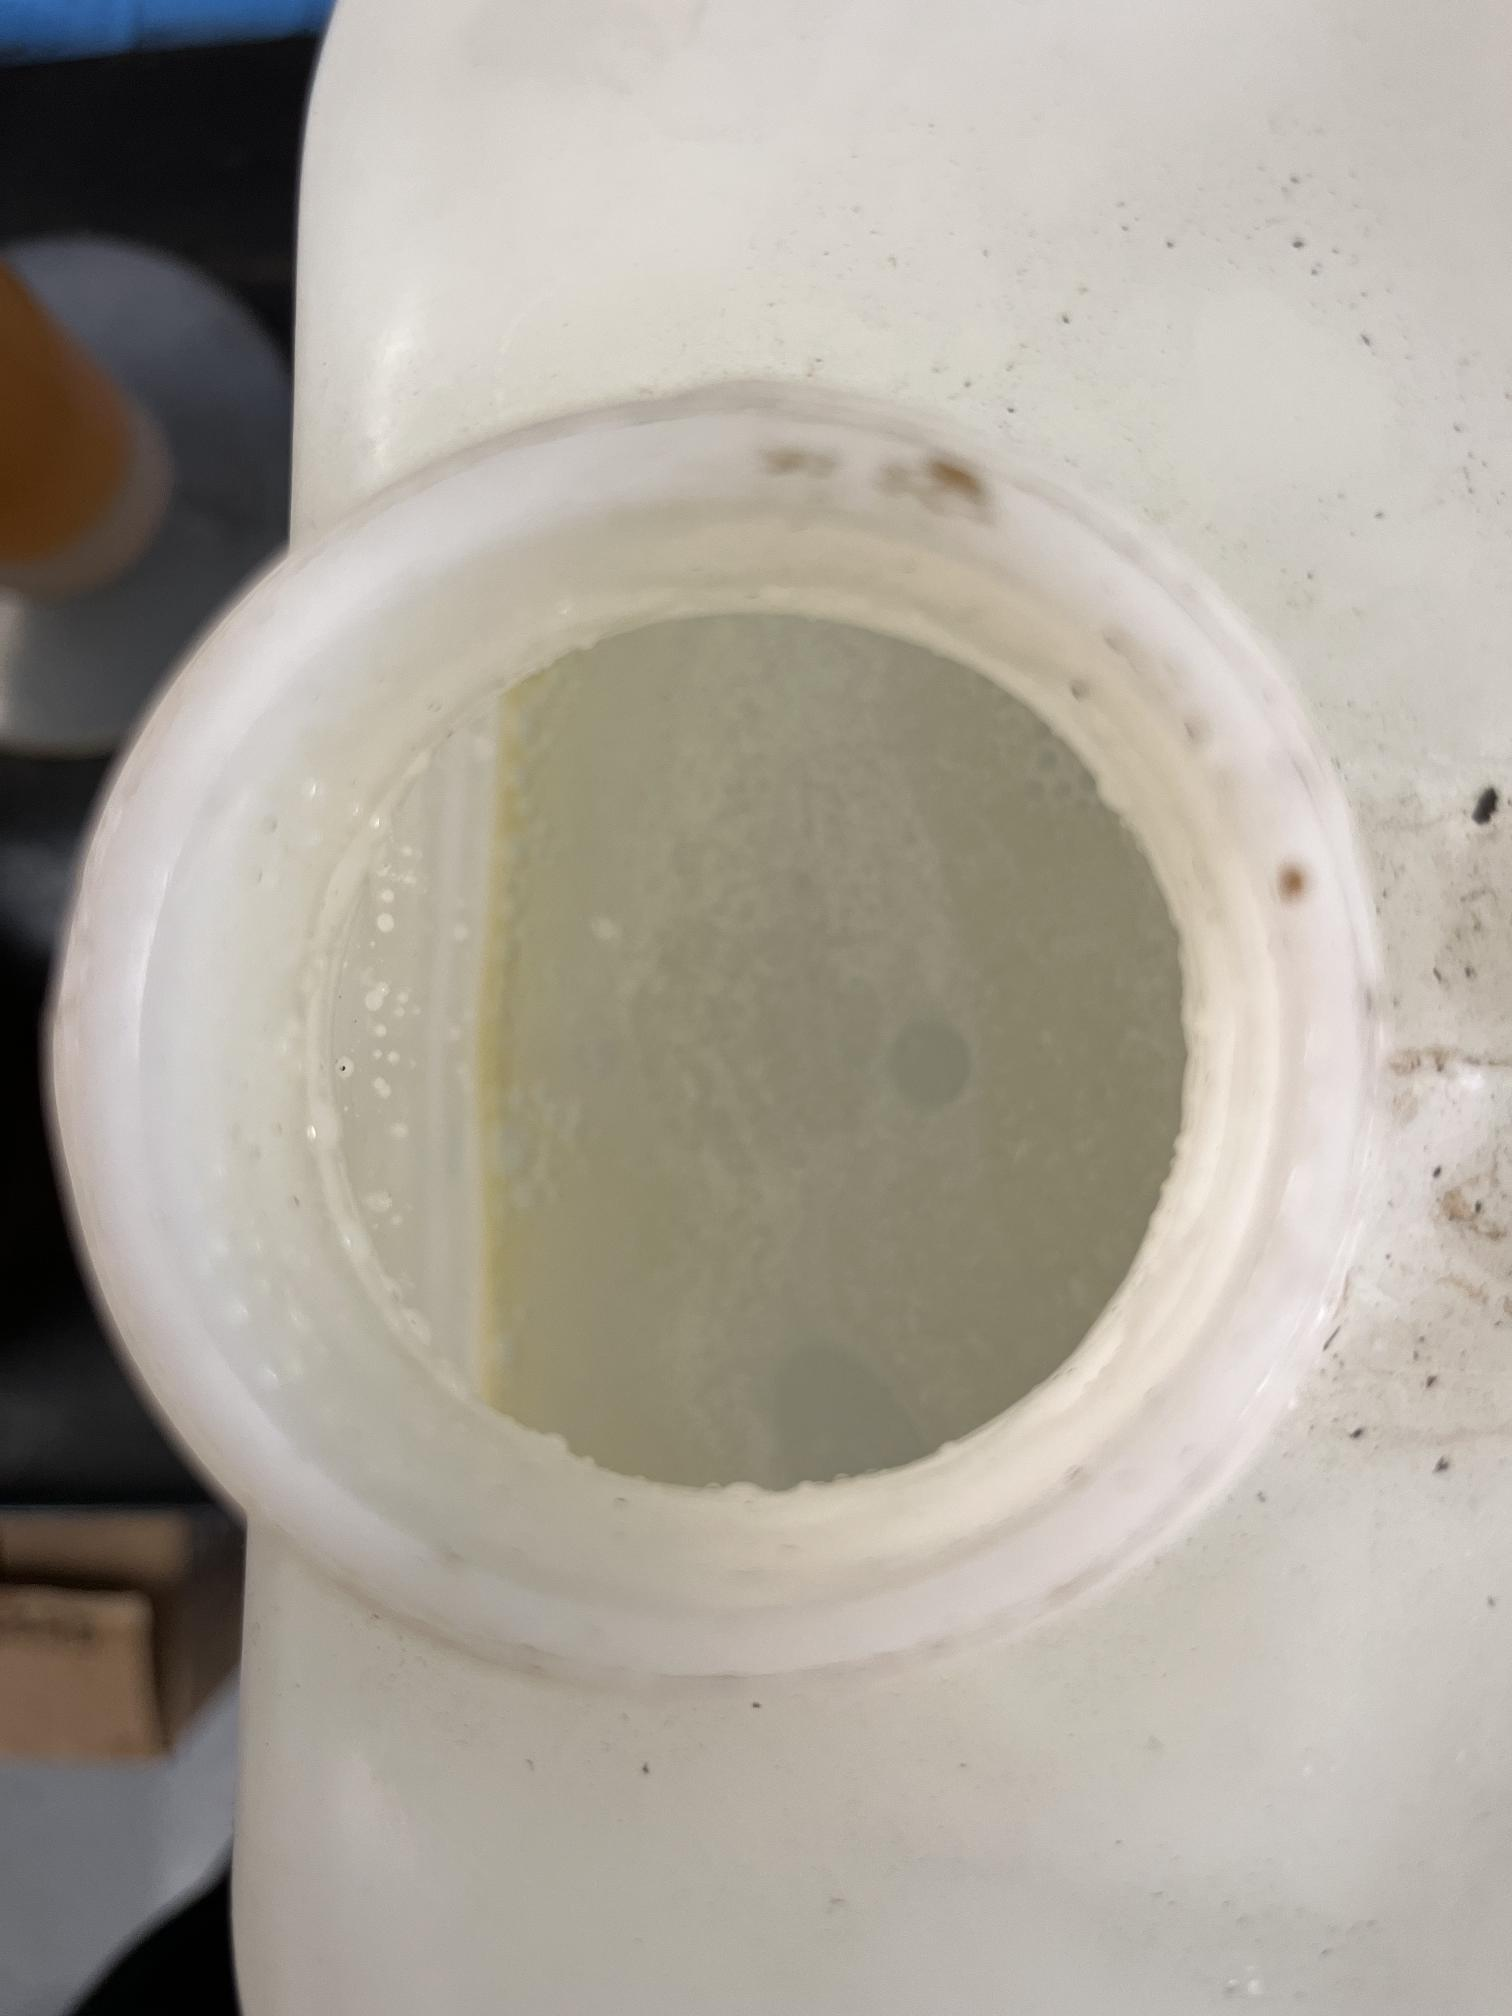Presenca de Oleo - - 30ml: (245, 521, 1301, 1575)
